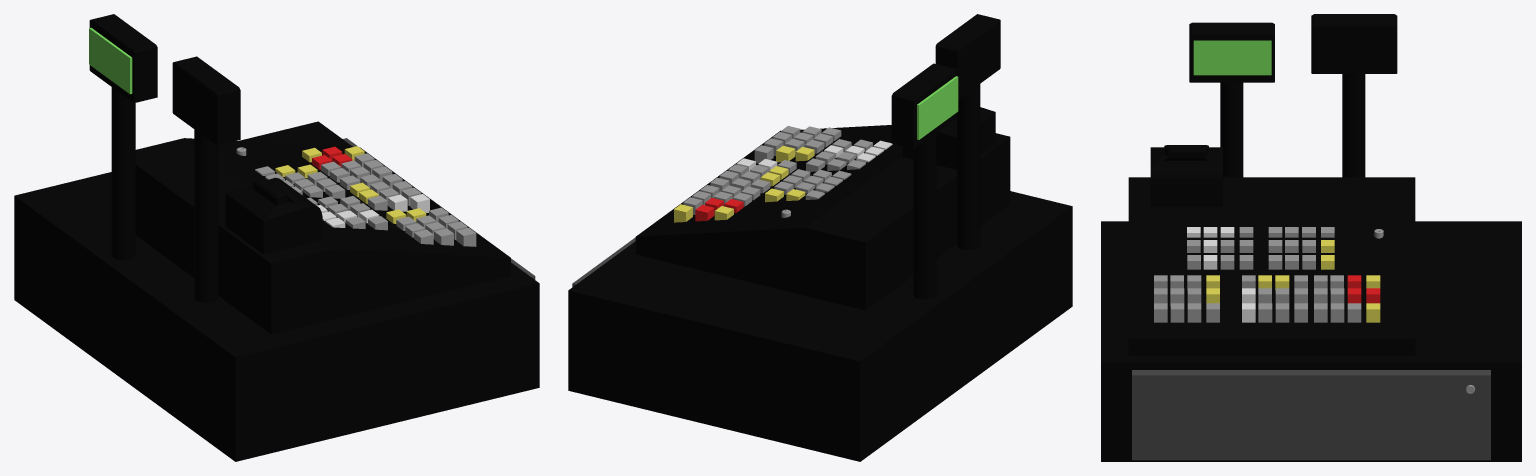
Rendered from rEGISTER.fbx.
3 renders of one model, left to right at view 1: azimuth 30°, elevation 25°; view 2: azimuth 150°, elevation 25°; view 3: azimuth 270°, elevation 25°, orthographic. The views are drawn at different scales.
Visible parts, largest first — view 1: Cube, Cube.002, Cube.067, Cube.064, Cylinder.002, Cylinder.003, Cube.063, Cube.066; view 2: Cube, Cube.002, Cylinder.002, Cylinder.003, Cube.064, Cube.063, Cube.067, Cube.066; view 3: Cube.002, Cube.001, Cube, Cube.063, Cube.067, Cube.065, Cube.064, Cylinder.002, Cylinder.003.
Boxes of the visible parts, left/top/right/bottom form: Cube: left=14, top=121, right=539, bottom=461; Cube.002: left=135, top=138, right=510, bottom=334; Cube.067: left=225, top=177, right=322, bottom=254; Cube.064: left=172, top=56, right=240, bottom=145; Cylinder.002: left=111, top=87, right=135, bottom=260; Cylinder.003: left=194, top=129, right=218, bottom=302; Cube.063: left=89, top=14, right=157, bottom=102; Cube.066: left=89, top=27, right=132, bottom=94; Cube: left=568, top=191, right=1072, bottom=461; Cube.002: left=635, top=125, right=1010, bottom=310; Cylinder.002: left=913, top=133, right=936, bottom=299; Cylinder.003: left=957, top=84, right=980, bottom=249; Cube.064: left=935, top=14, right=1000, bottom=98; Cube.063: left=891, top=63, right=956, bottom=148; Cube.067: left=902, top=107, right=995, bottom=169; Cube.066: left=917, top=76, right=958, bottom=139; Cube.002: left=1128, top=177, right=1415, bottom=355; Cube.001: left=1132, top=370, right=1490, bottom=460; Cube: left=1101, top=221, right=1521, bottom=461; Cube.063: left=1311, top=14, right=1397, bottom=73; Cube.067: left=1150, top=145, right=1222, bottom=206; Cube.065: left=1193, top=40, right=1271, bottom=75; Cube.064: left=1189, top=22, right=1274, bottom=82; Cylinder.002: left=1342, top=74, right=1365, bottom=177; Cylinder.003: left=1220, top=82, right=1243, bottom=177.
Size of the model in its own units: 2.09 by 2.06 by 2.52.
